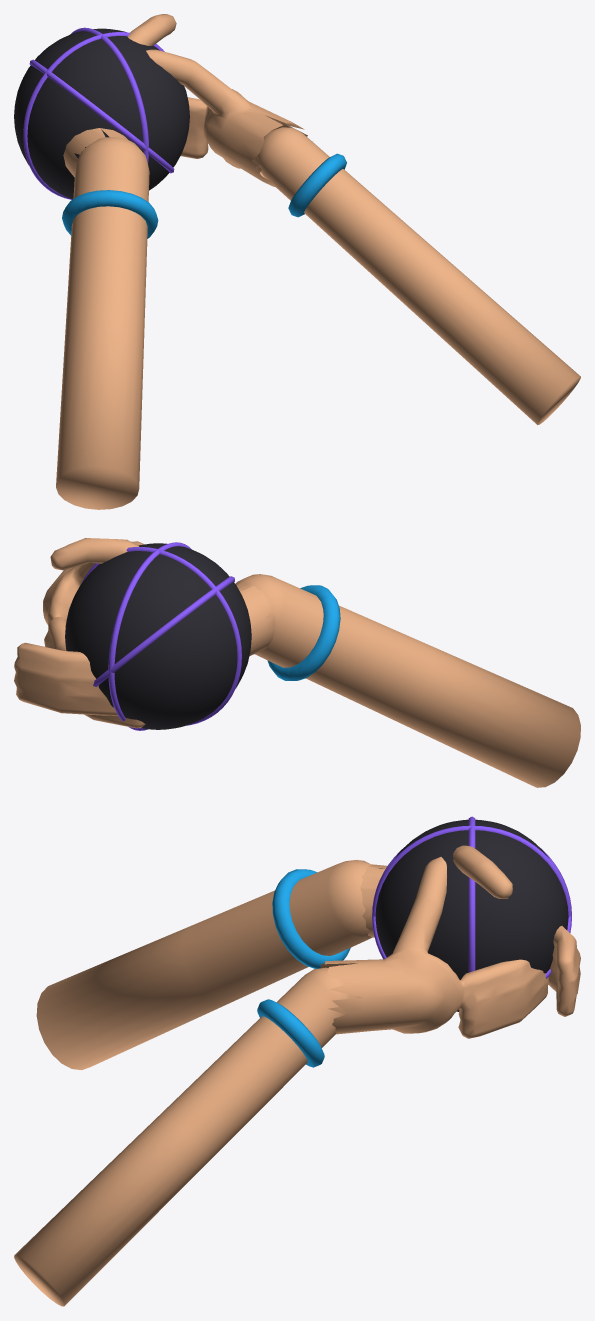
Rendered from gym.glb.
The picture shows the model from 3 angles, top to bottom: view 1: azimuth 30°, elevation 25°; view 2: azimuth 150°, elevation 25°; view 3: azimuth 270°, elevation 25°; orthographic projection. The views are drawn at different scales.
Parts seen in each view (by area): view 1: R, L; view 2: L, R; view 3: R, L.
Boxes of the visible parts, bbox=[...] form: R: bbox=[14, 27, 580, 424]; L: bbox=[56, 14, 176, 509]; L: bbox=[14, 538, 580, 787]; R: bbox=[43, 541, 251, 730]; R: bbox=[14, 816, 571, 1306]; L: bbox=[36, 845, 580, 1070].
Size of the model in its own units: 0.8625 by 0.5071 by 0.7614.
